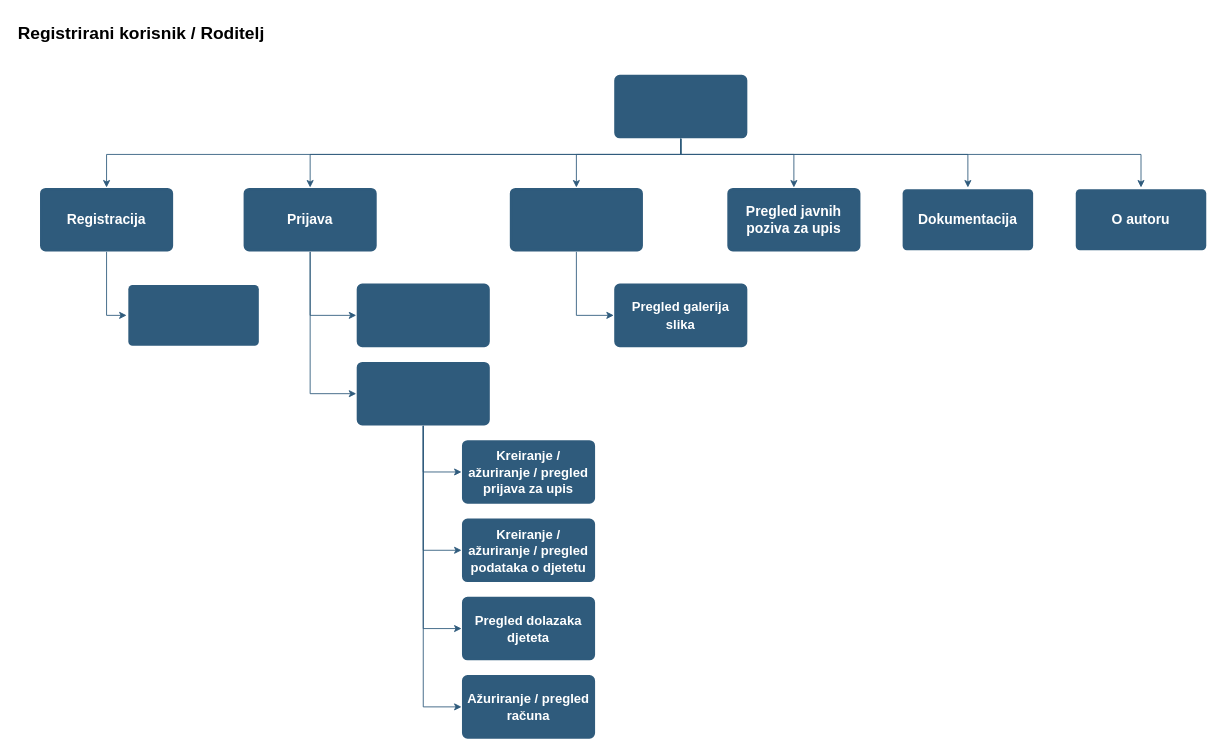
This 1221x753 diagram has some shape labels left out. Here are the shapes that lost their labels. From the top down, the centre of each, then its label:
At (x=680, y=106): "Početna stranica".
At (x=575, y=219): "Pregled dječjih vrtića".
At (x=193, y=314): "Aktivacija korisničkog računa".
At (x=422, y=315): "Zaboravljena lozinka".
At (x=422, y=393): "Korisnik - početna stranica".
